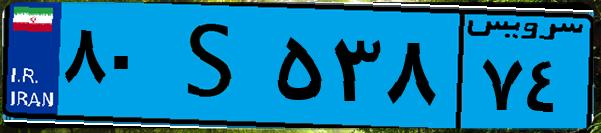0: (110, 28, 158, 98)
3: (330, 28, 385, 110)
4: (525, 38, 570, 115)
5: (270, 28, 330, 110)
7: (475, 38, 525, 113)
8: (385, 28, 445, 110), (57, 26, 110, 100)
S: (158, 12, 270, 120)
